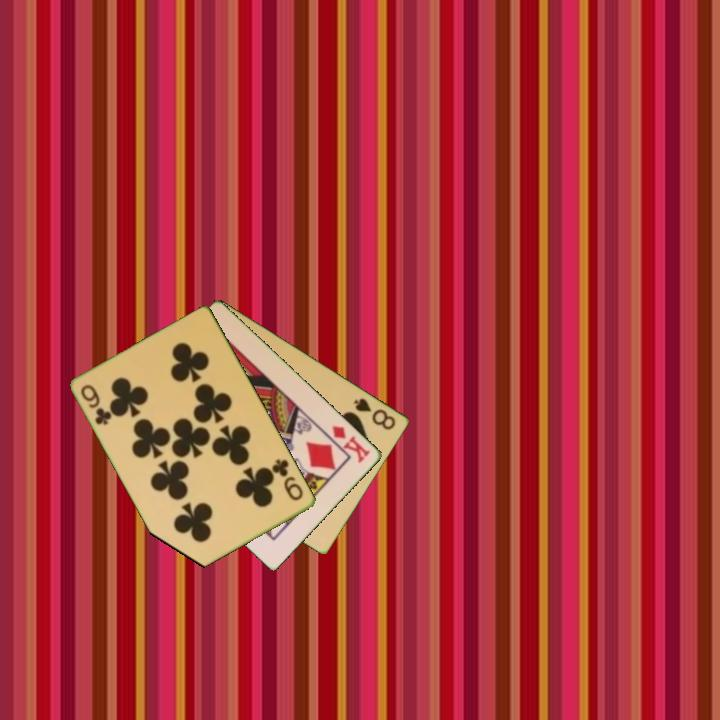8s: (351, 394, 399, 433)
9c: (269, 455, 307, 504), (77, 381, 115, 428)
Kd: (329, 422, 374, 466)
